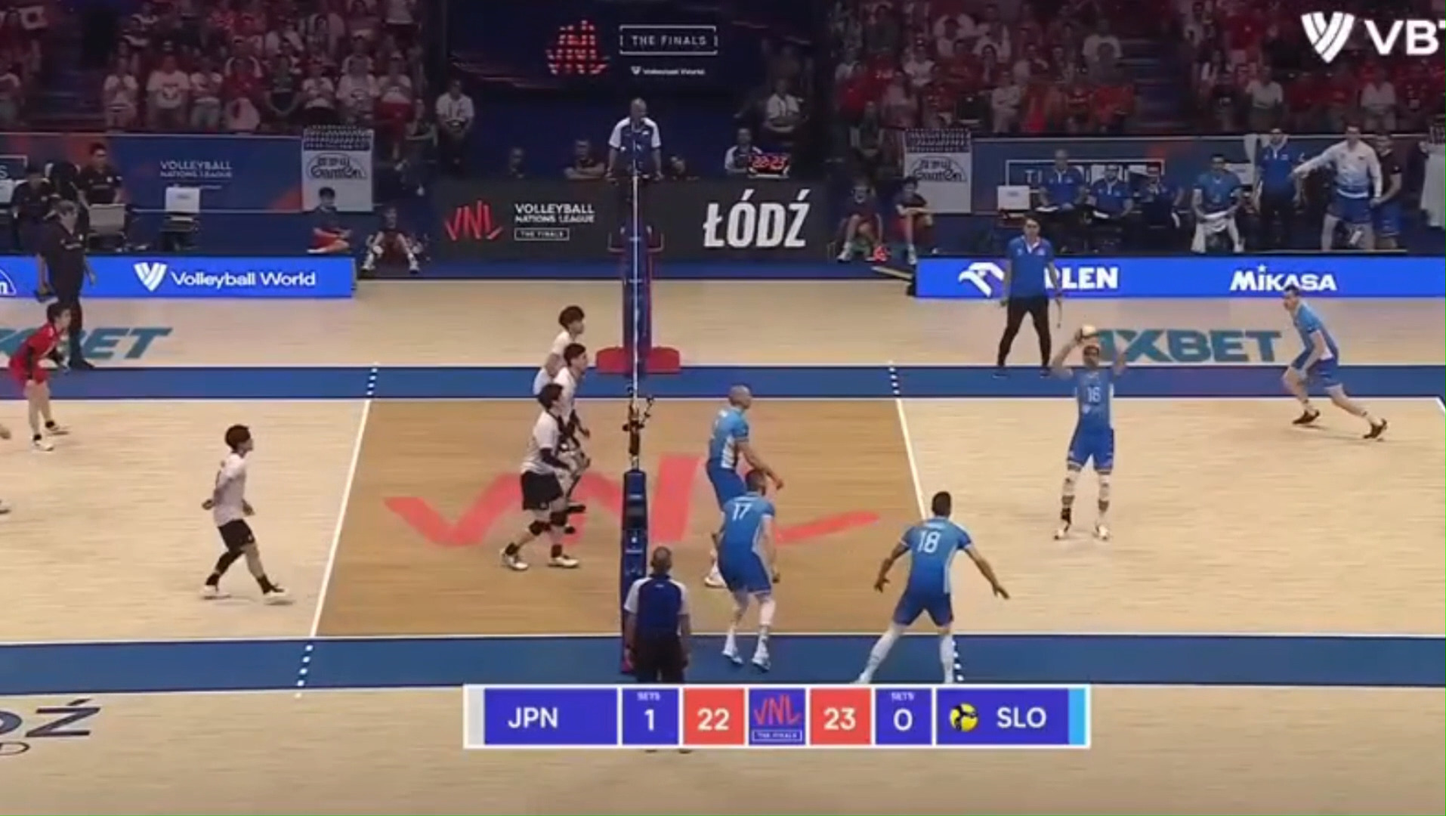ball: (1080, 324, 1097, 336)
player: (856, 491, 1009, 683), (1049, 326, 1126, 539), (1282, 284, 1388, 437), (714, 465, 778, 670), (704, 385, 783, 512), (703, 521, 725, 588)
player 1: (503, 382, 586, 570), (202, 424, 289, 602), (8, 301, 73, 450), (534, 304, 585, 391), (551, 342, 589, 441)
referee: (996, 218, 1062, 373), (37, 199, 94, 369), (623, 547, 690, 684), (607, 98, 661, 252)
